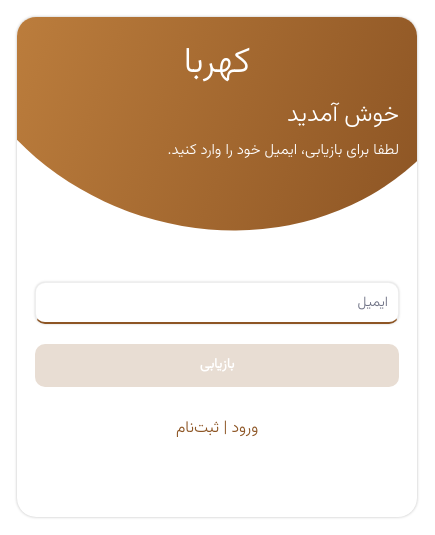
ForgotPassword component › submit button is enabled when email input is filled
Type "mahdi@gmail.com" into the field with placeholder "ایمیل" at coordinates (217, 303), box left=35, top=282, right=399, bottom=324
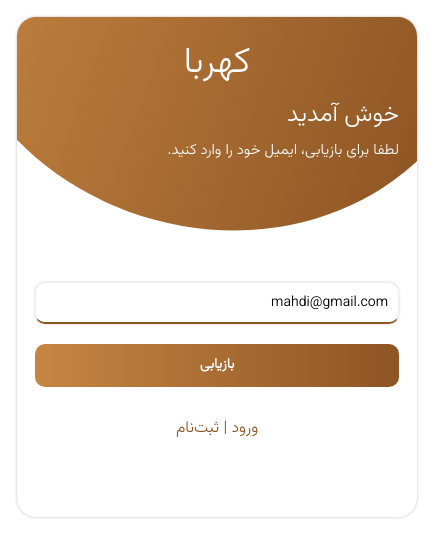
Result: the button "بازیابی" is enabled at left=35, top=344, right=399, bottom=387
